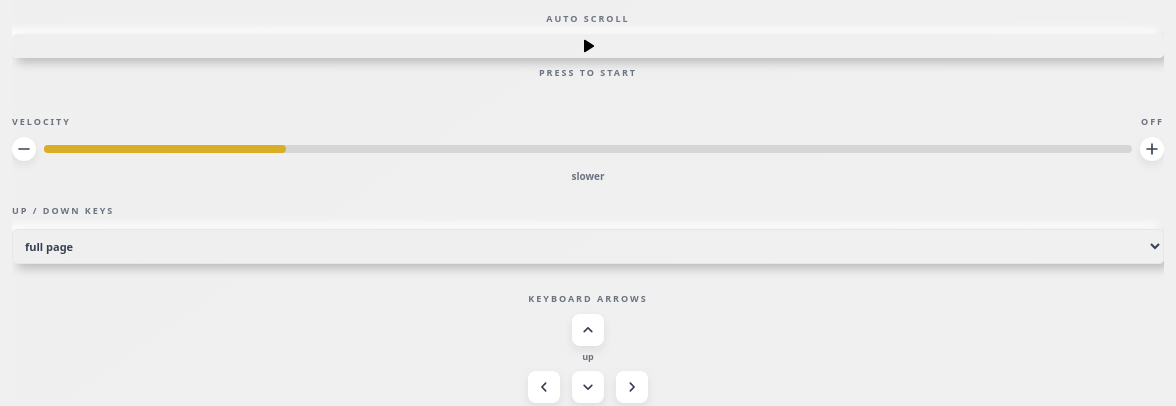
Test: ScrollControlPanel › registers a controller and toggles auto scroll on desktop
Click the button named "Start auto scroll".
click(588, 46)  # box [12,34,1164,58]
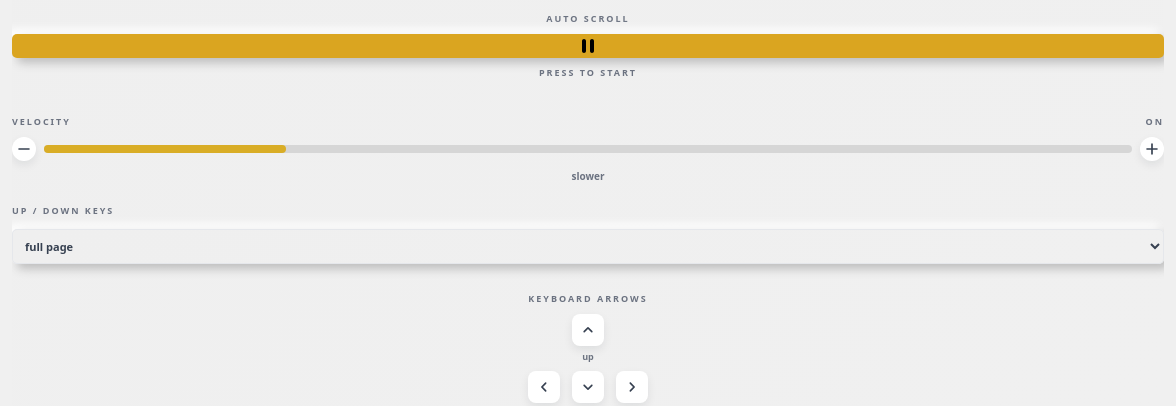
expect the button named "Stop auto scroll" is shown: met, box [12,34,1164,58]
